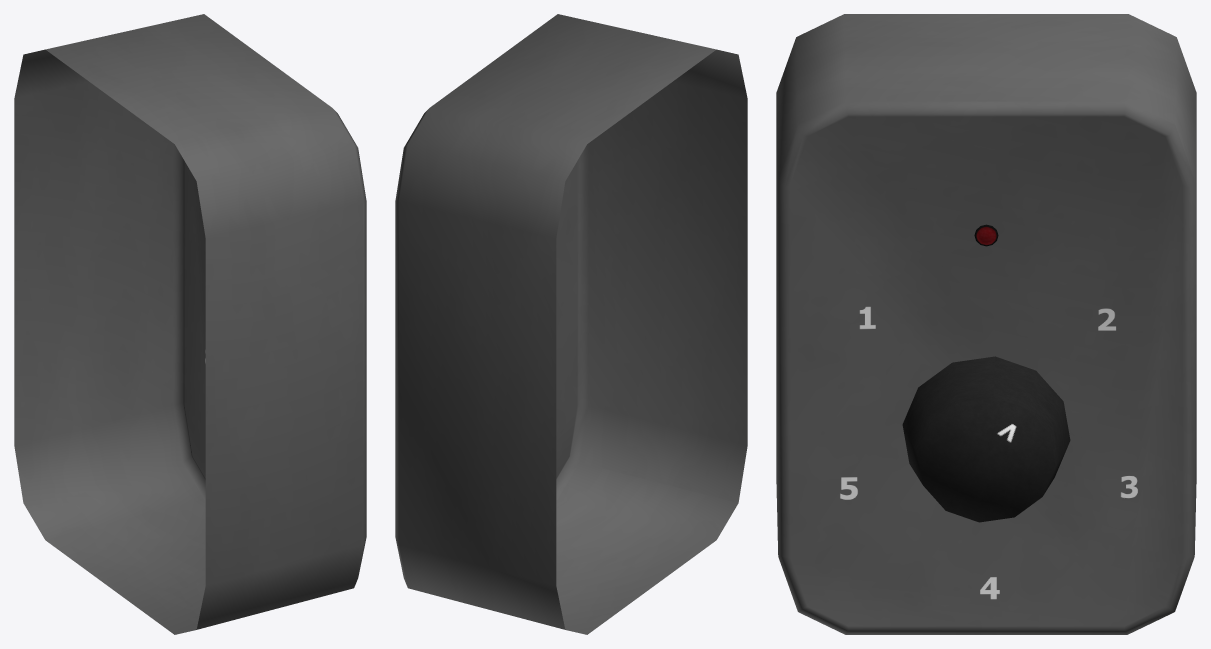
File: HALLWAYDIAL_2.fbx
3 renders of one model, left to right at view 1: azimuth 30°, elevation 25°; view 2: azimuth 150°, elevation 25°; view 3: azimuth 270°, elevation 25°, orthographic. The views are drawn at different scales.
Parts seen in each view (by area): view 1: Dialbox; view 2: Dialbox; view 3: Dialbox, Dial.
Boxes of the visible parts, left/top/right/bottom form: Dialbox: left=14, top=14, right=366, bottom=634; Dialbox: left=395, top=14, right=747, bottom=634; Dialbox: left=776, top=14, right=1196, bottom=634; Dial: left=902, top=356, right=1070, bottom=522.
Bounding box in the file's own units: 6.79 × 14.8 × 10.46.
